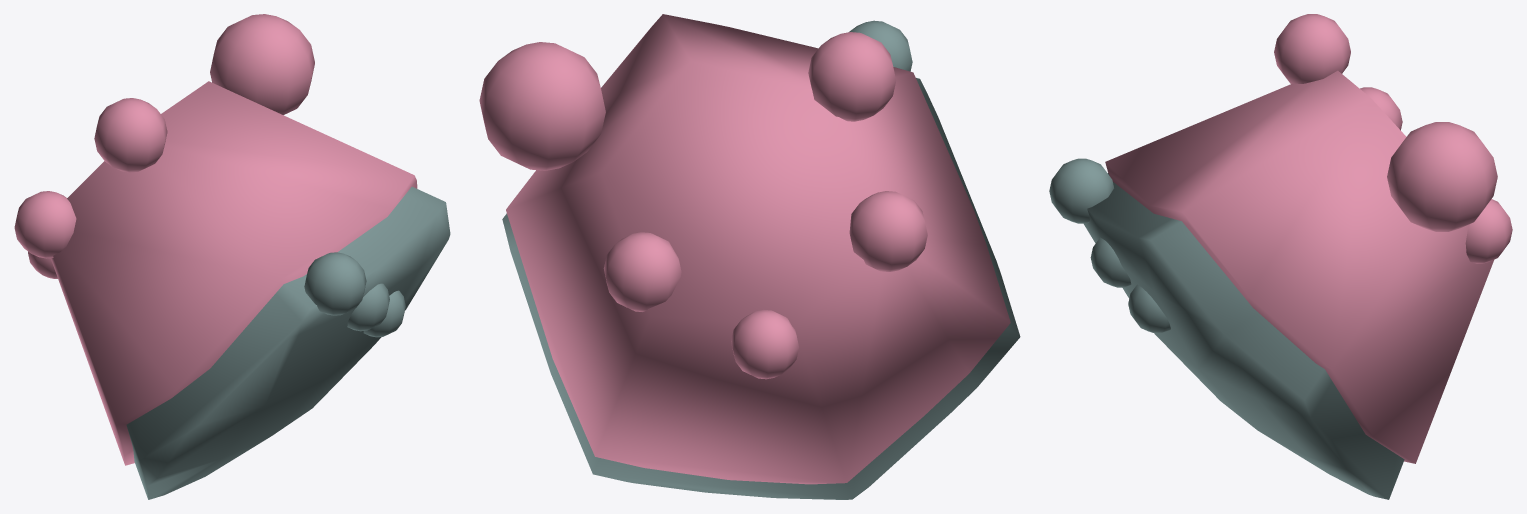
Rendered from chunk16.glb.
3 views of the same model, side by side, from view 1: azimuth 30°, elevation 25°; view 2: azimuth 150°, elevation 25°; view 3: azimuth 270°, elevation 25° (orthographic). The views are drawn at different scales.
Visible parts, largest first — view 1: flesh, skin; view 2: flesh, skin; view 3: flesh, skin.
Part boxes in pixels (x1,y1,x2,y2): flesh: (14,14,417,465); skin: (126,186,450,499); flesh: (479,14,1010,484); skin: (502,20,1020,499); flesh: (1105,14,1512,463); skin: (1049,158,1404,499).
Size of the model in its own units: 0.8715 by 0.8715 by 0.8939.
